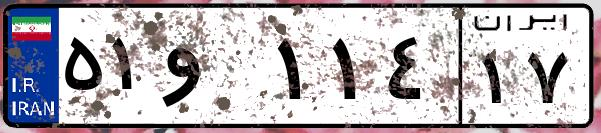1: (270, 28, 330, 110), (330, 28, 385, 110), (475, 38, 525, 113), (110, 28, 158, 98)
4: (385, 28, 445, 110)
5: (57, 26, 110, 100)
7: (525, 38, 570, 115)
و: (158, 20, 270, 120)
